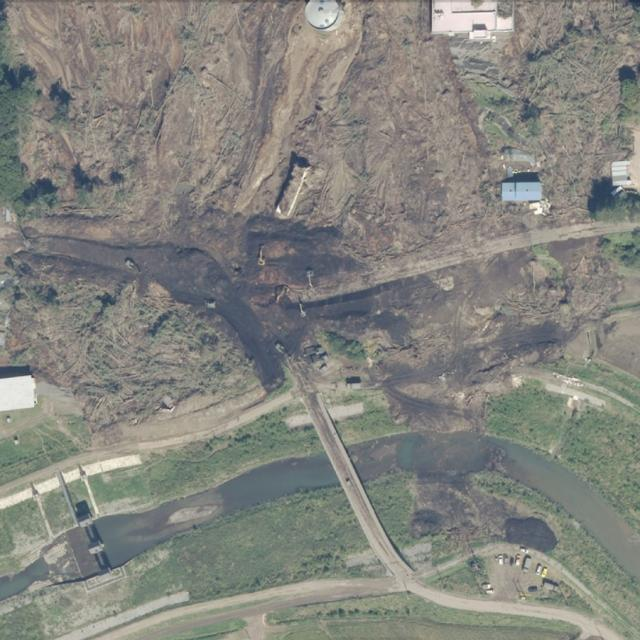landslide: (0, 0, 640, 431)
